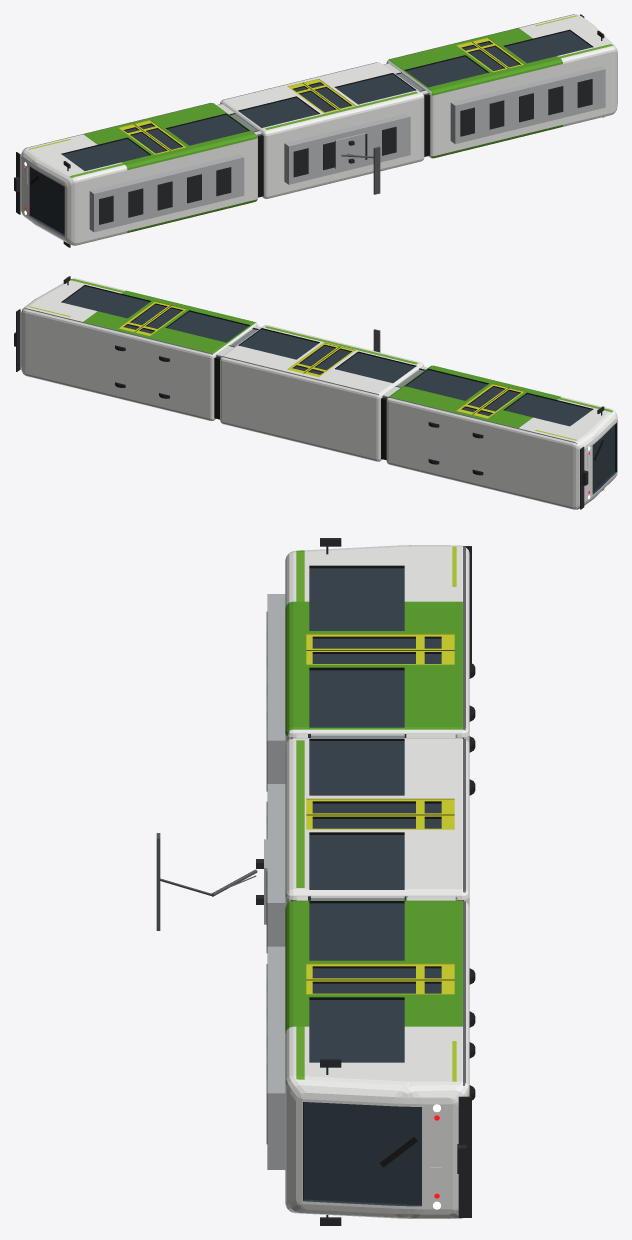
The picture shows the model from 3 angles, top to bottom: view 1: azimuth 30°, elevation 25°; view 2: azimuth 150°, elevation 25°; view 3: azimuth 270°, elevation 25°; orthographic projection. The views are drawn at different scales.
Parts seen in each view (by area): view 1: C1_body_s0, C1_body_s2, C1_body_s1, C1_roof_pod_027, C1_roof_pod_038, C1_roof_pod_033, C1_pan_base_044, C1_roof_grille_030, C1_roof_grille_040, C1_roof_grille_042, C1_roof_grille_029, C1_roof_grille_032 (+11 smaller); view 2: C1_body_s0, C1_body_s2, C1_body_s1, C1_bellows_001, C1_bellows_002; view 3: C1_body_s2, C1_body_s0, C1_body_s1, C1_roof_pod_038, C1_roof_pod_027, C1_roof_pod_033, C1_bumper_019.
Part boxes in pixels (<box>): C1_body_s0: <box>21,103,257,245</box>; C1_body_s2: <box>386,14,617,158</box>; C1_body_s1: <box>220,62,424,198</box>; C1_roof_pod_027: <box>89,154,244,232</box>; C1_roof_pod_038: <box>450,66,605,144</box>; C1_roof_pod_033: <box>284,113,410,184</box>; C1_pan_base_044: <box>335,133,365,168</box>; C1_roof_grille_030: <box>157,181,172,210</box>; C1_roof_grille_040: <box>489,100,504,129</box>; C1_roof_grille_042: <box>548,86,563,115</box>; C1_roof_grille_029: <box>128,188,143,217</box>; C1_roof_grille_032: <box>216,167,231,196</box>; C1_body_s0: <box>386,365,617,509</box>; C1_body_s2: <box>21,278,257,420</box>; C1_body_s1: <box>220,325,424,461</box>; C1_bellows_001: <box>381,397,386,460</box>; C1_bellows_002: <box>214,357,220,419</box>; C1_body_s2: <box>285,900,469,1218</box>; C1_body_s0: <box>285,545,469,745</box>; C1_body_s1: <box>285,738,469,907</box>; C1_roof_pod_038: <box>267,946,285,1169</box>; C1_roof_pod_027: <box>267,594,285,783</box>; C1_roof_pod_033: <box>267,784,285,946</box>; C1_bumper_019: <box>458,1096,471,1217</box>.
Size of the model in its own units: 23.35 by 3.23 by 5.64.
